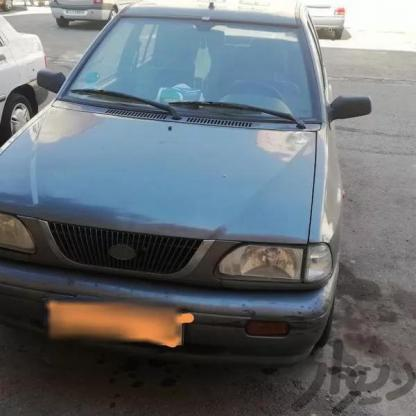Car: (0, 0, 361, 366), (0, 1, 38, 110), (292, 0, 362, 50), (44, 0, 125, 37)
